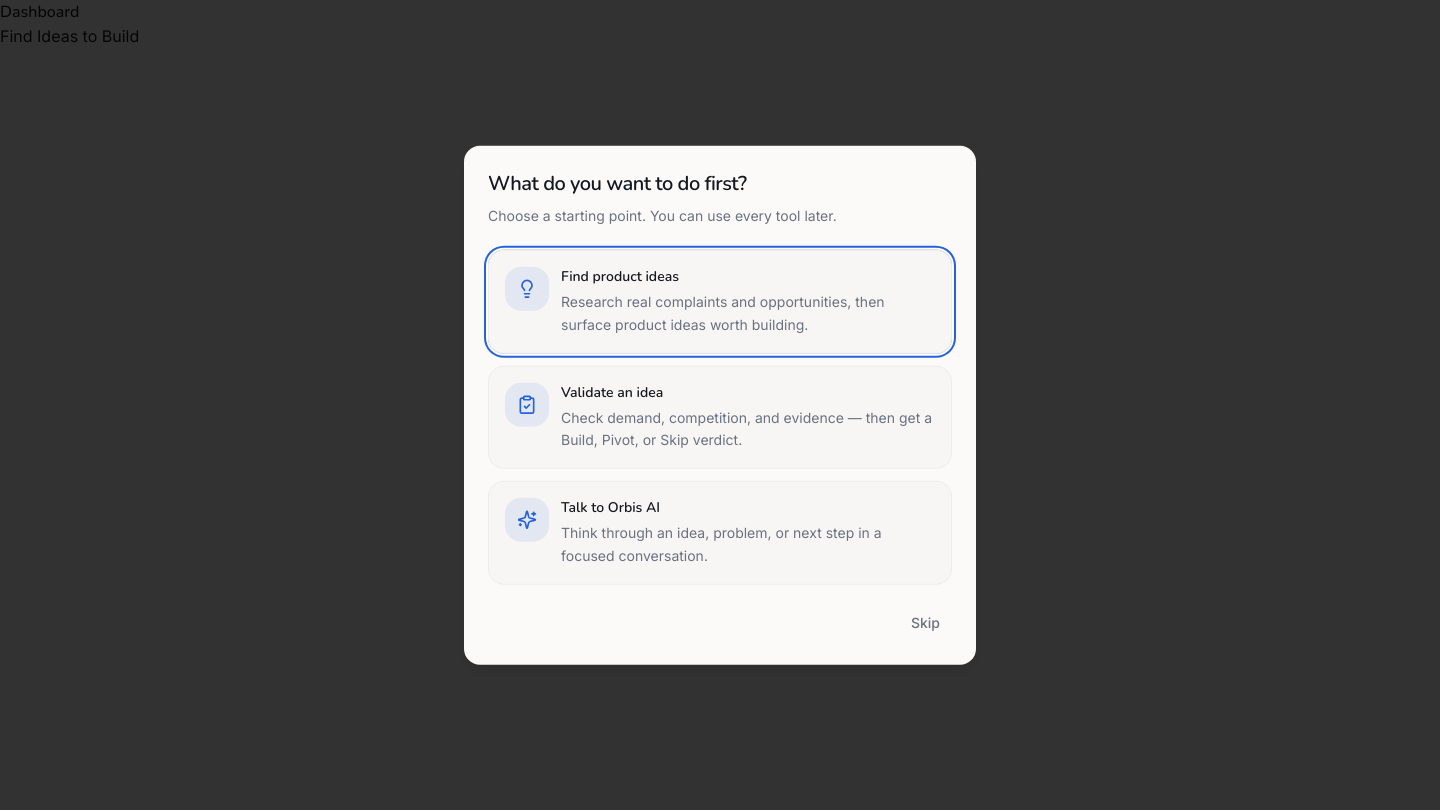
Test: OnboardingTour goal routing › navigates {} to /chat with one-time focus request
What coordinates should you click on to do the following:
click the button "Talk to Orbis AI"
I would click on:
 (720, 533)
Its box is x1=488 y1=481 x2=952 y2=584.
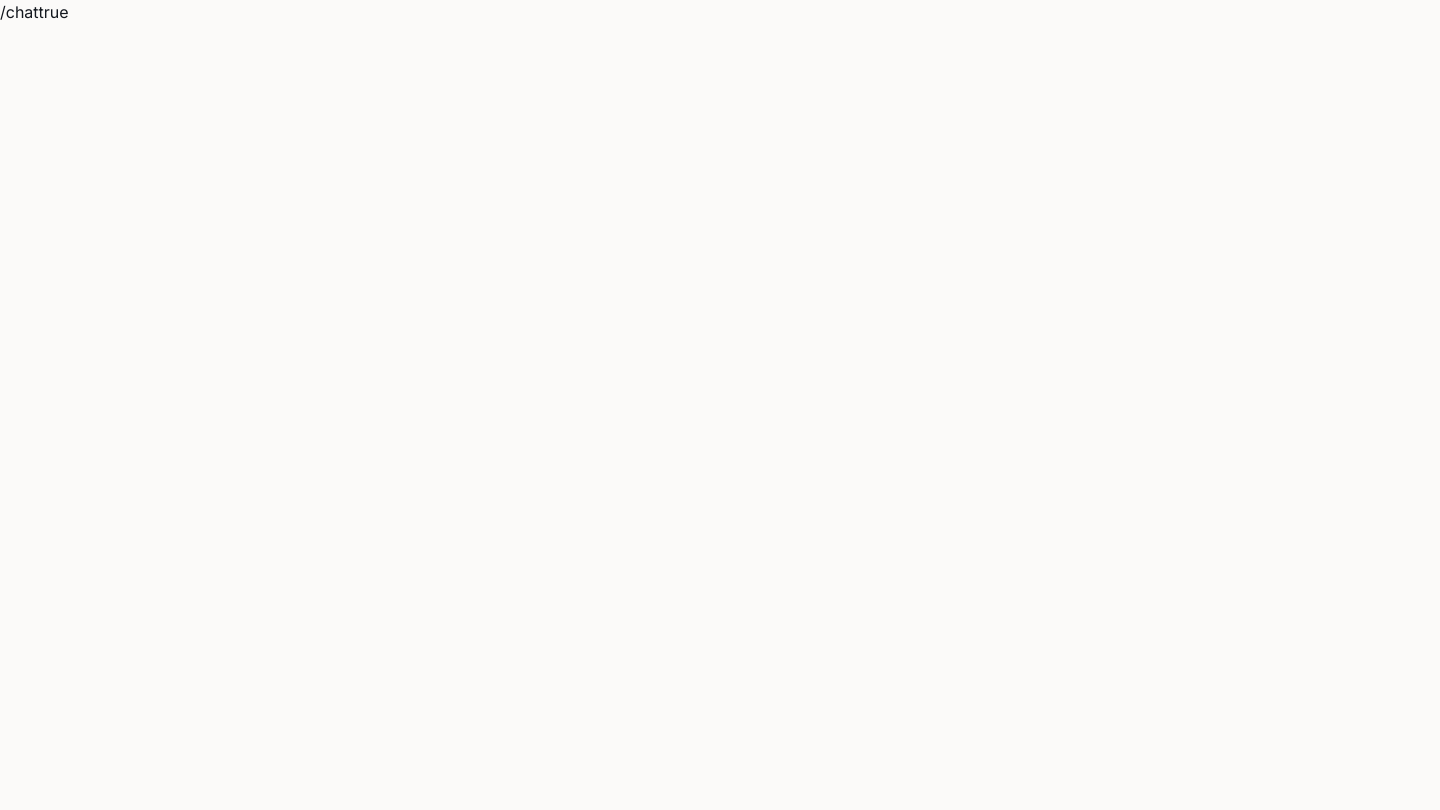
expect the text with test id "pathname" reads "/chat": met, box x1=0 y1=2 x2=39 y2=22
expect the text with test id "focus-flag" reads "true": met, box x1=39 y1=2 x2=69 y2=22
expect the dialog is gone: met
